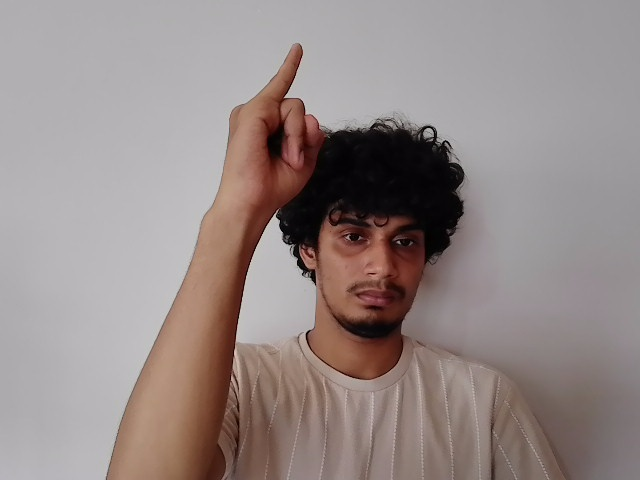bad: (208, 44, 322, 213)
